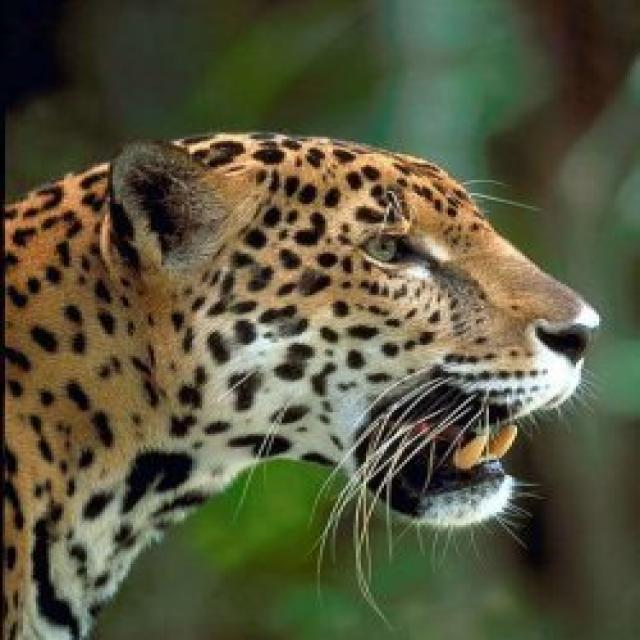Leopard: (0, 130, 596, 635)
